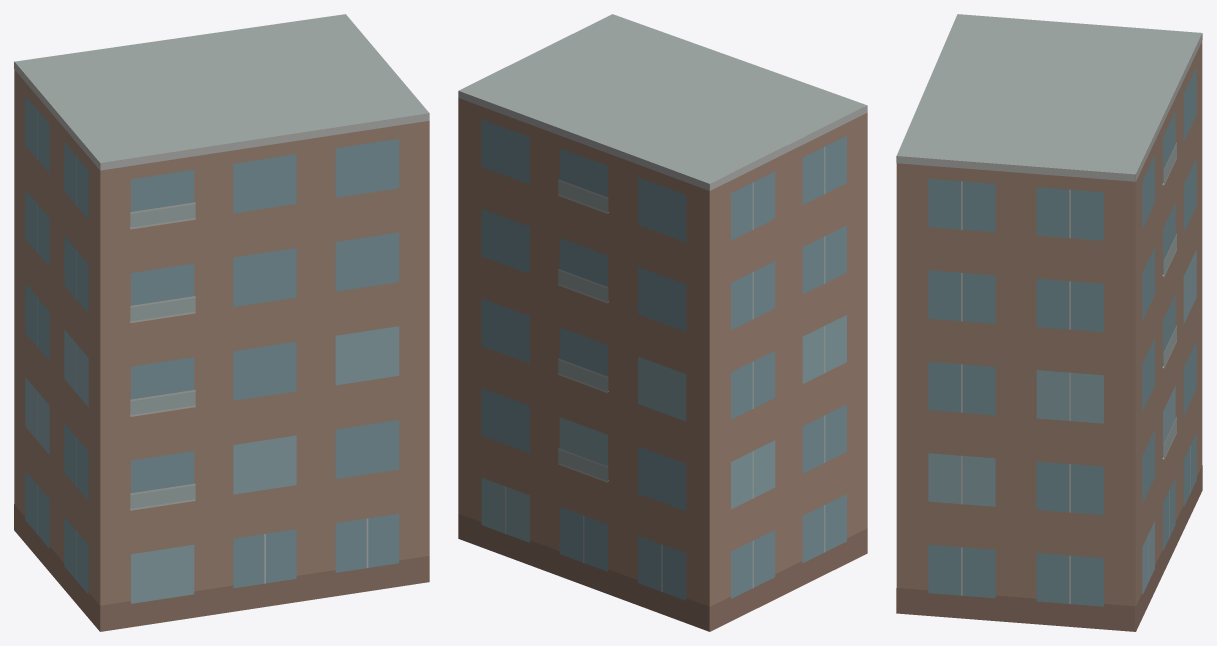
The model's file is survey-upis-32870056.glb.
3 renders of one model, left to right at view 1: azimuth 30°, elevation 25°; view 2: azimuth 150°, elevation 25°; view 3: azimuth 270°, elevation 25°, orthographic. The views are drawn at different scales.
Parts seen in each view (by area): view 1: survey-upis-32870056.tmp; view 2: survey-upis-32870056.tmp; view 3: survey-upis-32870056.tmp.
Boxes of the visible parts, bbox=[...] form: survey-upis-32870056.tmp: bbox=[14, 14, 429, 631]; survey-upis-32870056.tmp: bbox=[458, 14, 867, 631]; survey-upis-32870056.tmp: bbox=[896, 14, 1202, 631].
Size of the model in its own units: 11.56 by 15.35 by 9.32.
